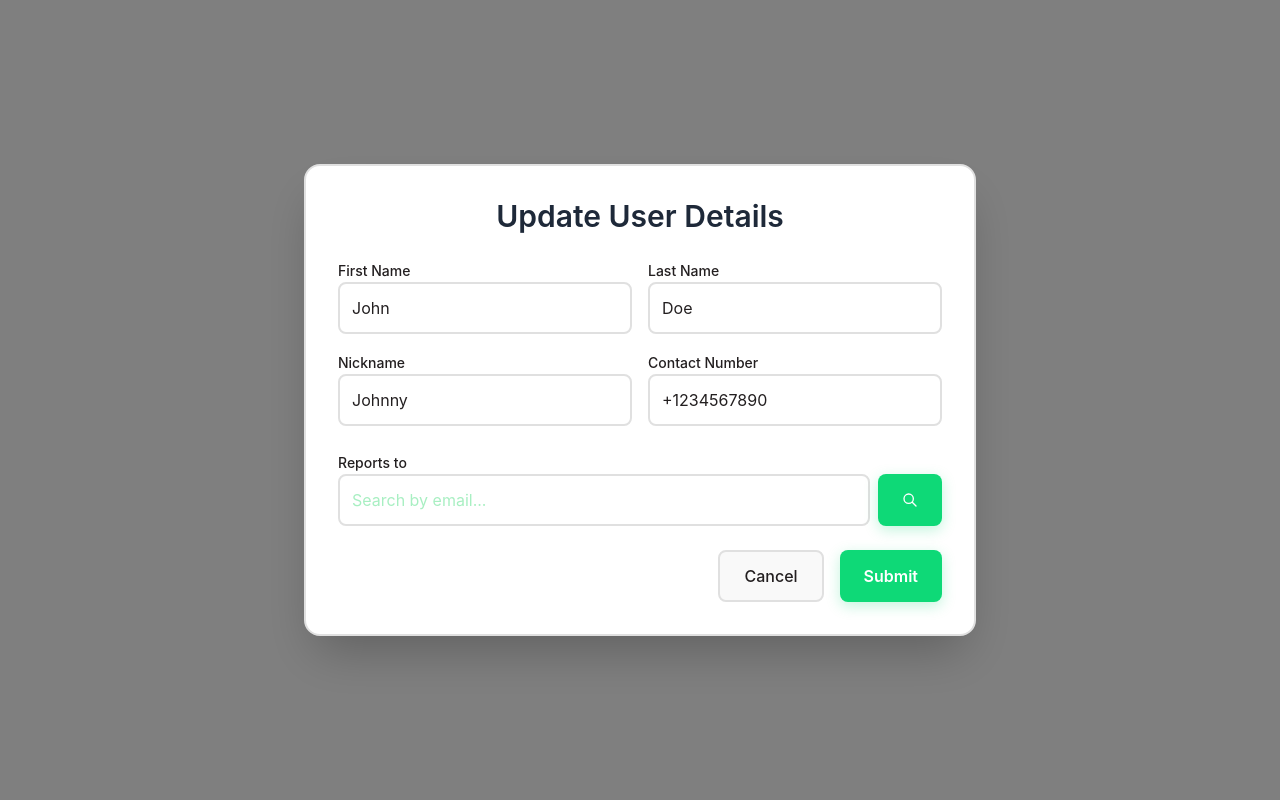
it: AdminUserUpdateModal › should display search results in a table
Type "manager" into the field with placeholder "Search by email..." at (604, 500), box [338,474,870,526]
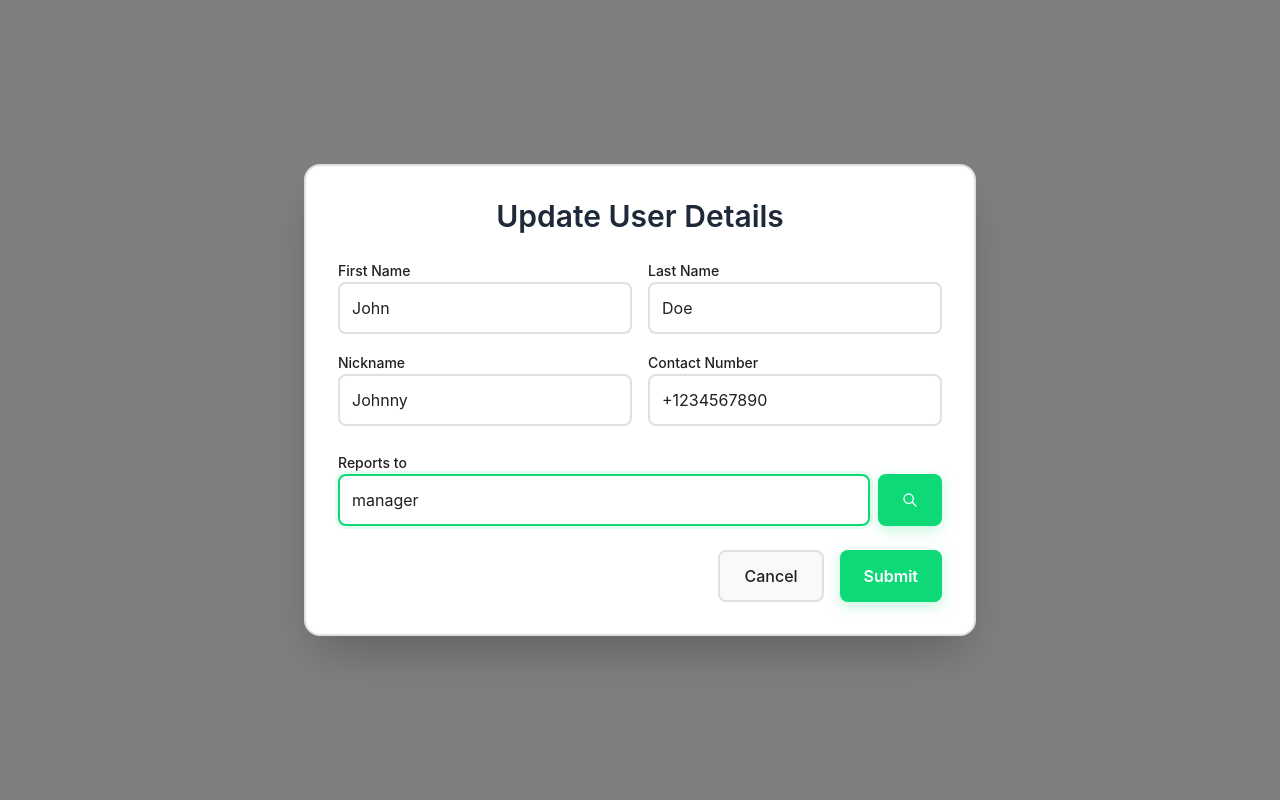
Click the button named "Search users" at (910, 500), box [878,474,942,526]
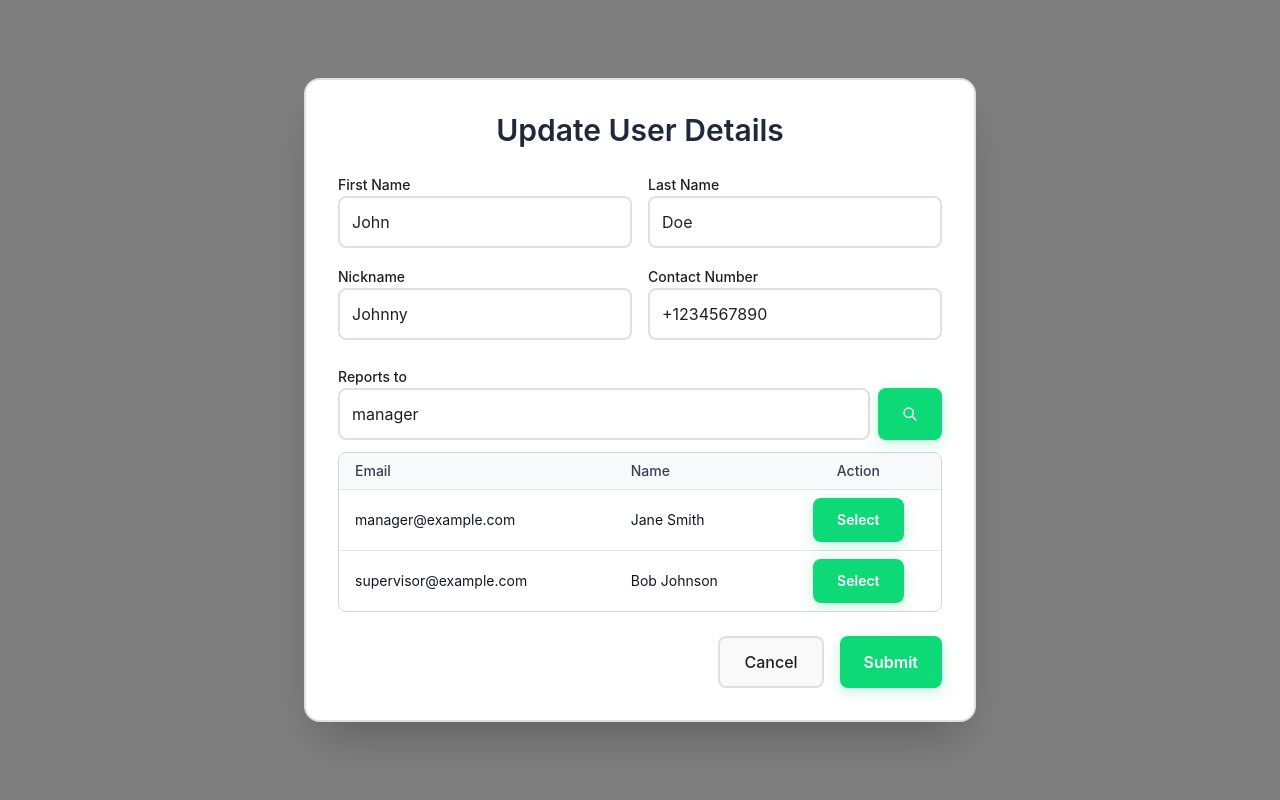
Check: the text "manager@example.com" is shown, box [339,490,615,550]
Check: the text "supervisor@example.com" is shown, box [339,550,615,611]
Check: the column heading "Email" is shown, box [339,453,615,490]
